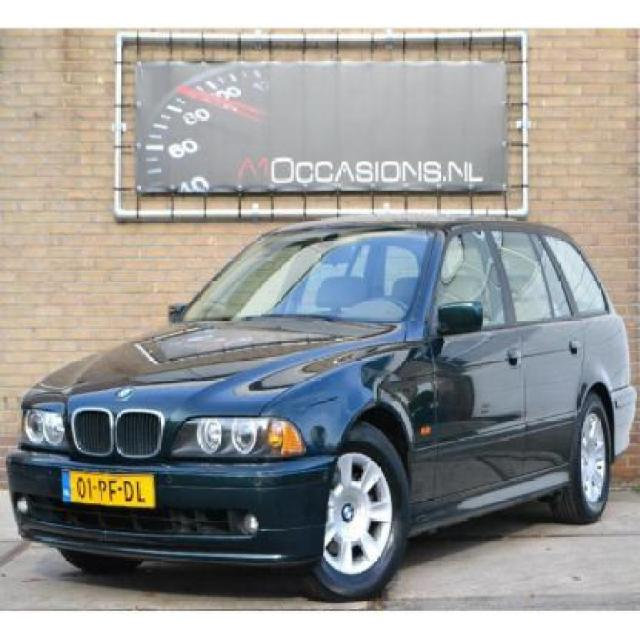License-Plates: (58, 466, 160, 509)
